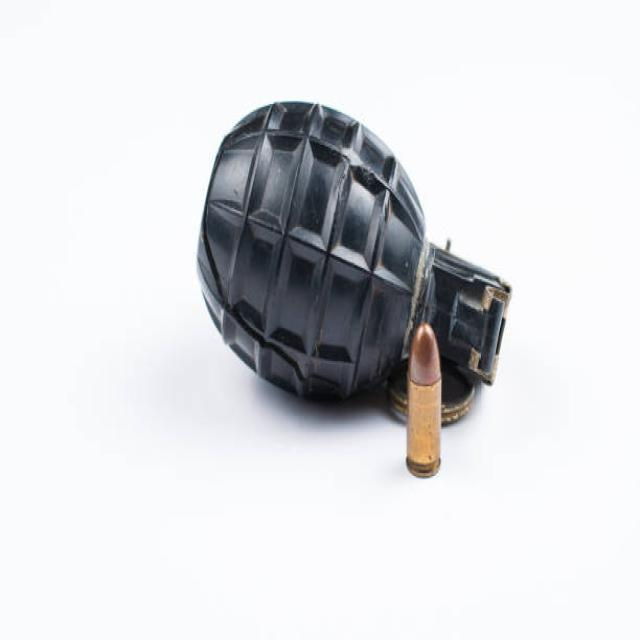grenade: (199, 98, 515, 429)
